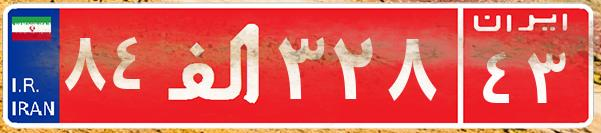2: (330, 28, 385, 110)
3: (273, 28, 330, 110), (525, 38, 570, 115)
4: (475, 38, 525, 113), (110, 28, 158, 105)
8: (385, 28, 445, 110), (57, 26, 110, 107)
الف: (158, 15, 273, 115)
